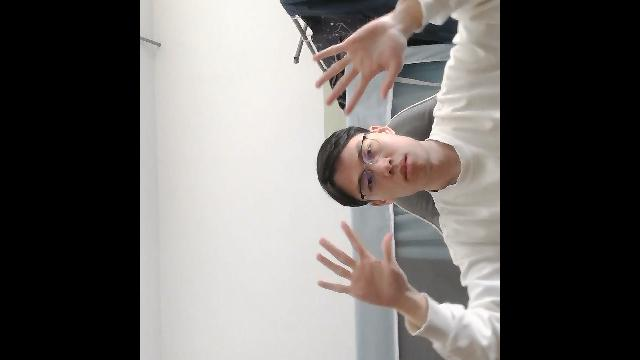five: (310, 8, 410, 117), (313, 219, 414, 313)
